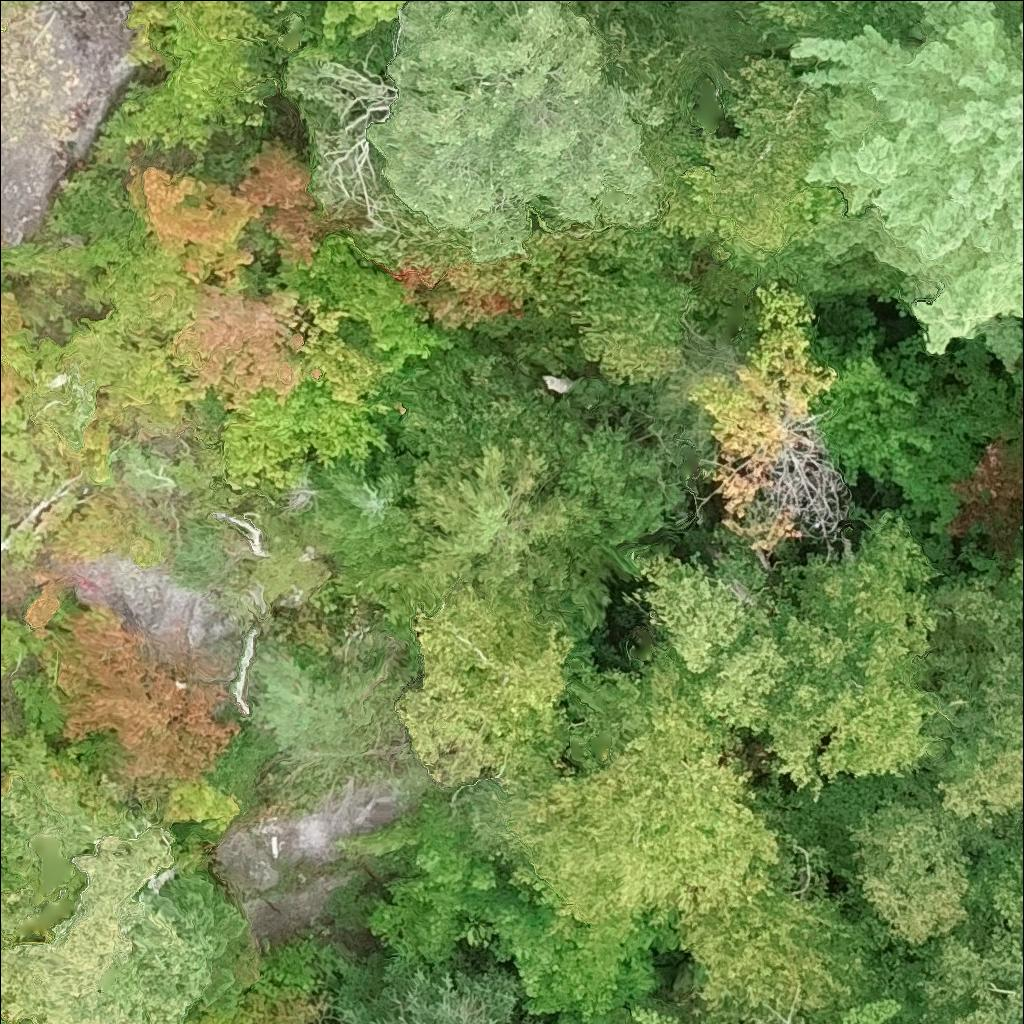crown: (394, 584, 780, 931), (642, 510, 938, 798), (366, 0, 675, 262), (795, 0, 1023, 352), (352, 797, 687, 1020), (28, 580, 242, 799), (0, 822, 213, 1023), (690, 286, 835, 552), (664, 58, 847, 256), (673, 847, 891, 1012), (400, 442, 568, 604), (97, 23, 269, 150), (810, 331, 931, 486), (243, 636, 374, 768), (851, 801, 970, 943), (174, 275, 301, 408), (561, 265, 693, 385), (938, 645, 1023, 828), (332, 958, 551, 1023), (316, 453, 418, 563), (915, 926, 1023, 1023), (749, 0, 934, 44), (175, 0, 292, 43), (556, 992, 687, 1023), (321, 0, 413, 41), (700, 998, 842, 1023), (182, 998, 316, 1023), (0, 357, 28, 431), (823, 996, 897, 1023), (124, 0, 185, 30), (0, 272, 25, 341), (990, 0, 1023, 37), (1011, 563, 1023, 584), (0, 226, 8, 246), (17, 1018, 33, 1023), (0, 1019, 6, 1023), (1022, 5, 1023, 11)
